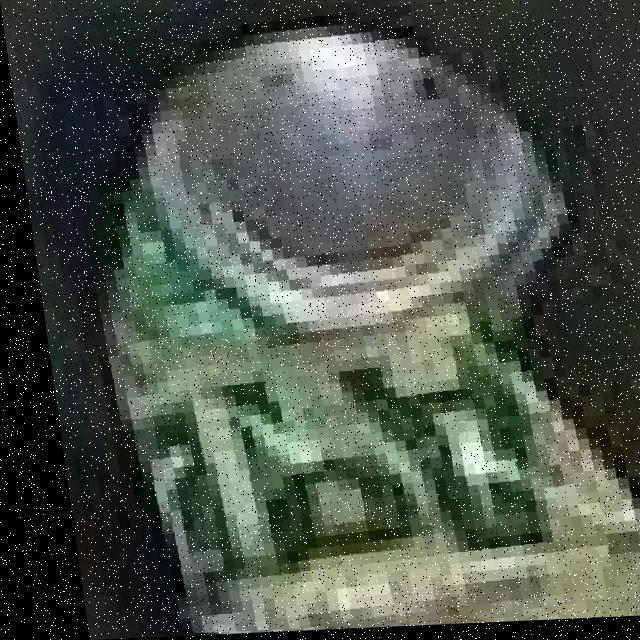litter: (70, 0, 640, 636)
